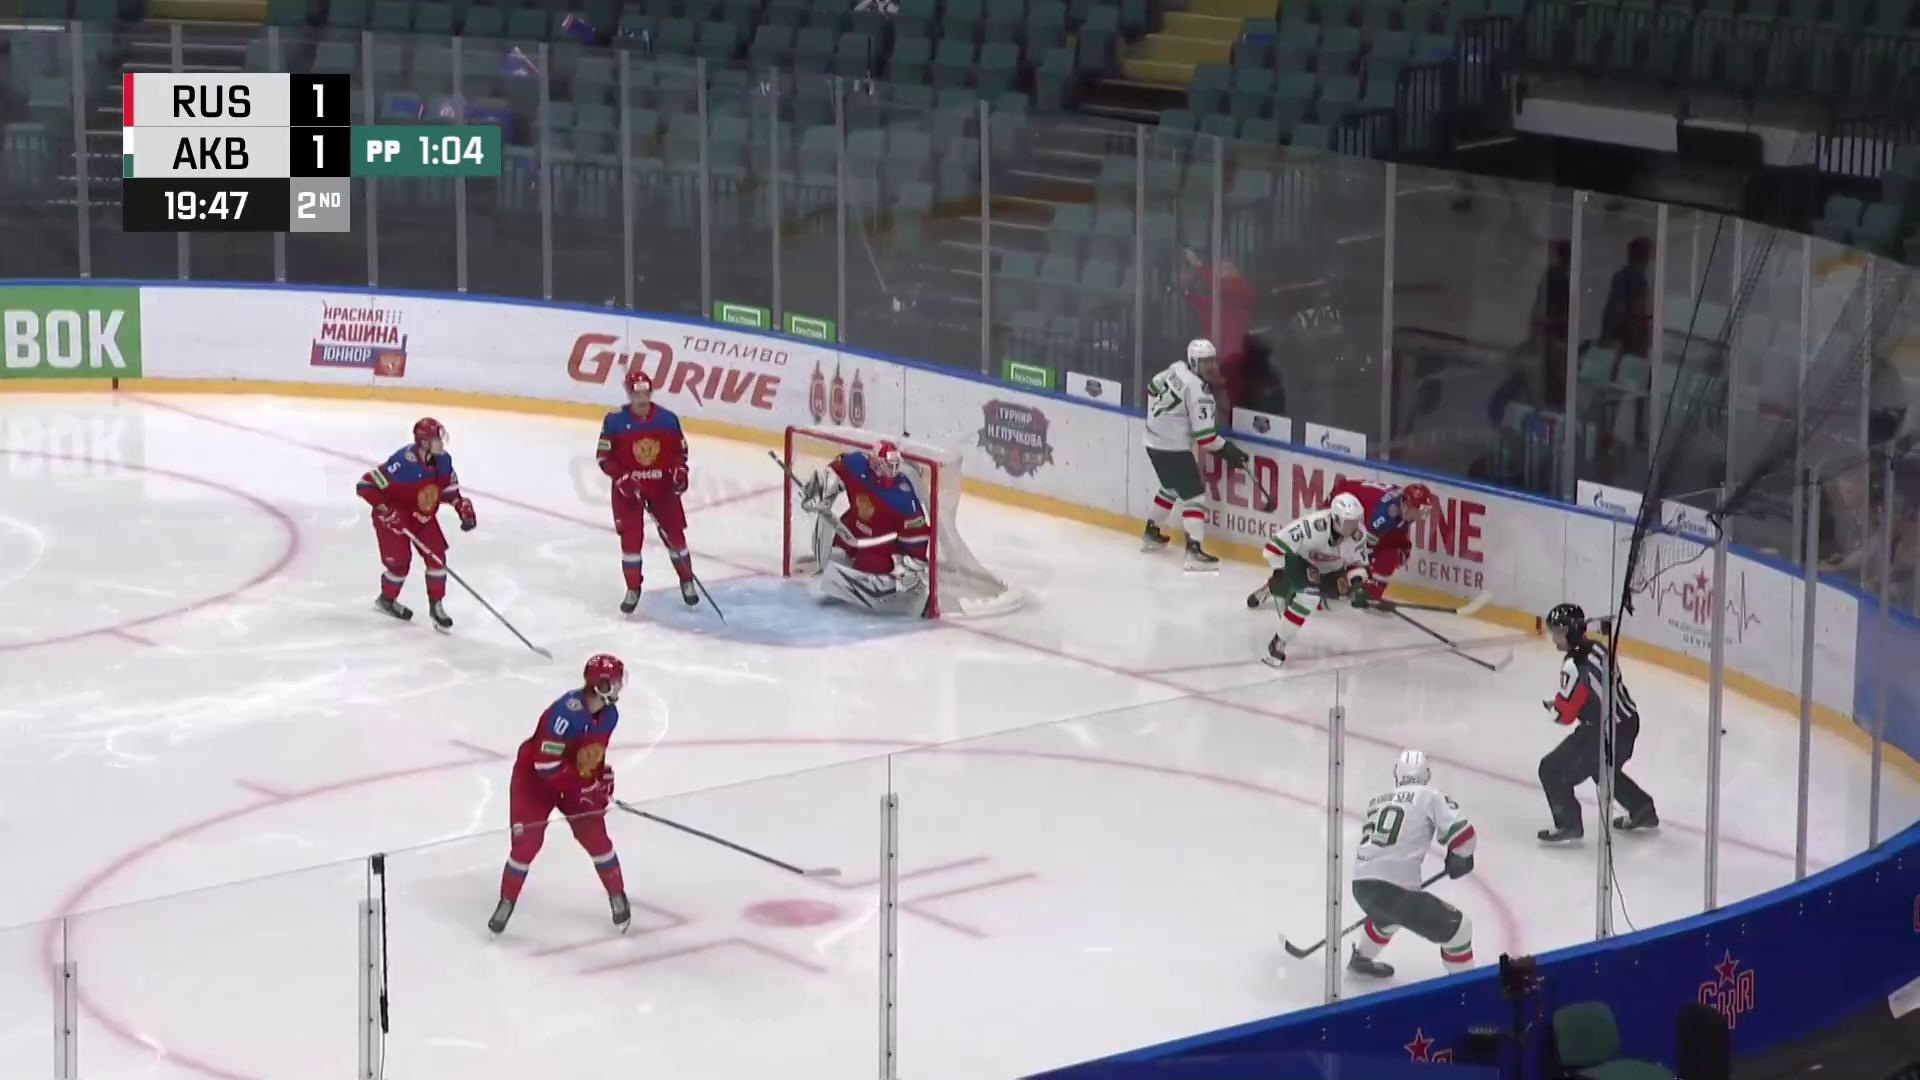ball: (1720, 729, 1727, 737)
